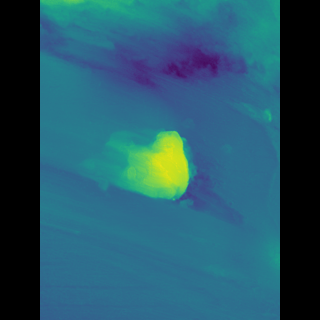Loch: (102, 124, 225, 226)
